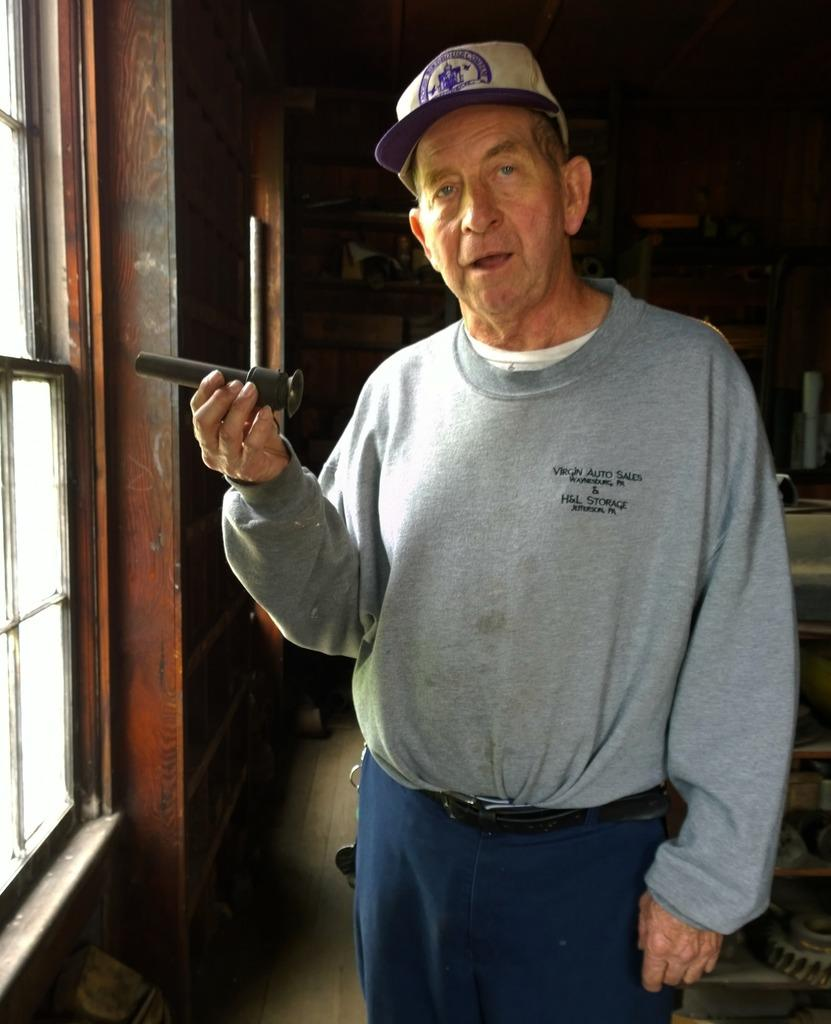Hat: (370, 41, 570, 202)
